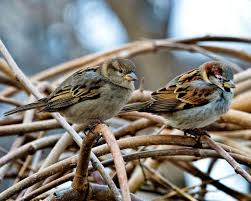hsparrow: (3, 55, 142, 142), (131, 60, 237, 140)
